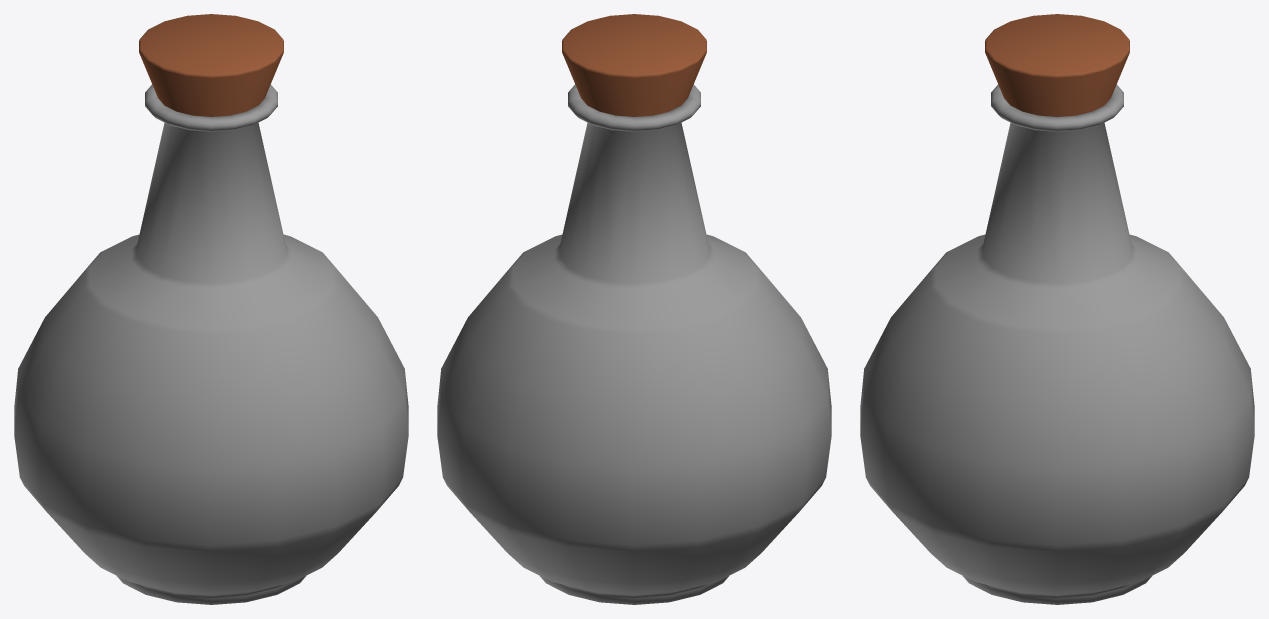
Rendered from SM_Potion.FBX.
3 views of the same model, side by side, from view 1: azimuth 30°, elevation 25°; view 2: azimuth 150°, elevation 25°; view 3: azimuth 270°, elevation 25° (orthographic).
Parts seen in each view (by area): view 1: Cylinder001; view 2: Cylinder001; view 3: Cylinder001.
Boxes of the visible parts, x1,y1,x2,y2 form: Cylinder001: [14, 14, 408, 604]; Cylinder001: [437, 14, 831, 604]; Cylinder001: [860, 14, 1254, 604].
Bounding box in the file's own units: 58.2 × 83.02 × 57.32.
